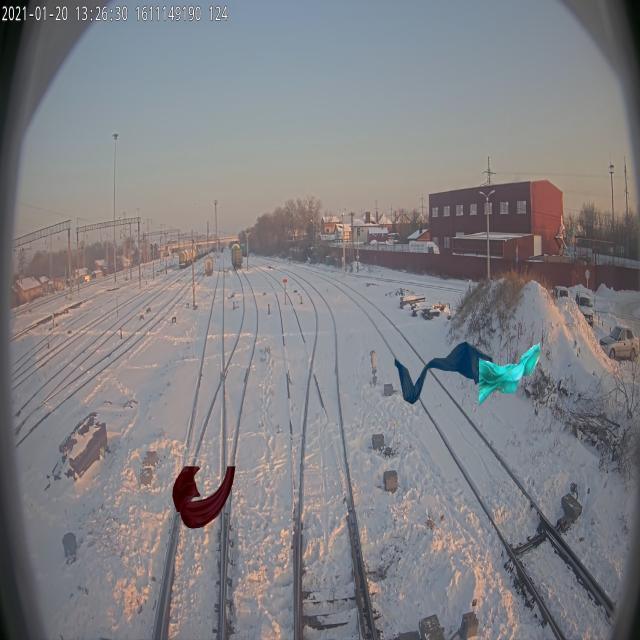floating object: (395, 340, 493, 404), (172, 464, 236, 528), (478, 342, 540, 406)
